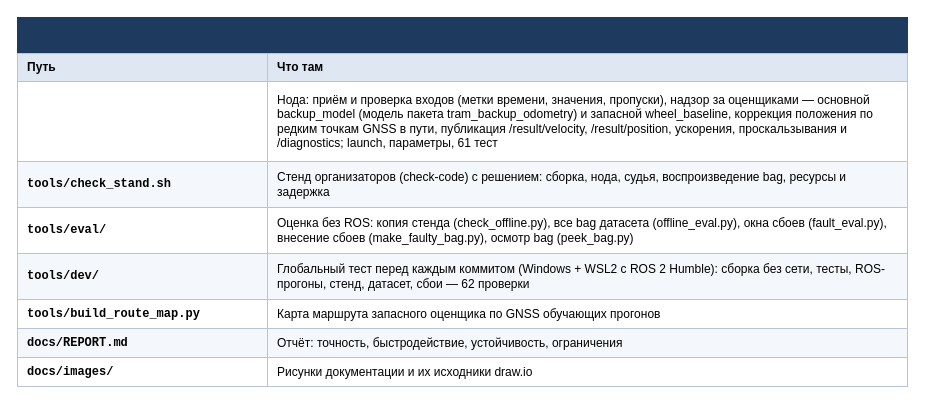
This 925x404 diagram has some shape labels left out. Here are the shapes that lost their labels. From the top down, the box of each, then its label:
(16, 16, 908, 54): Ветка interface — нода и инструменты
(16, 80, 268, 162): src/tram_odometry/
